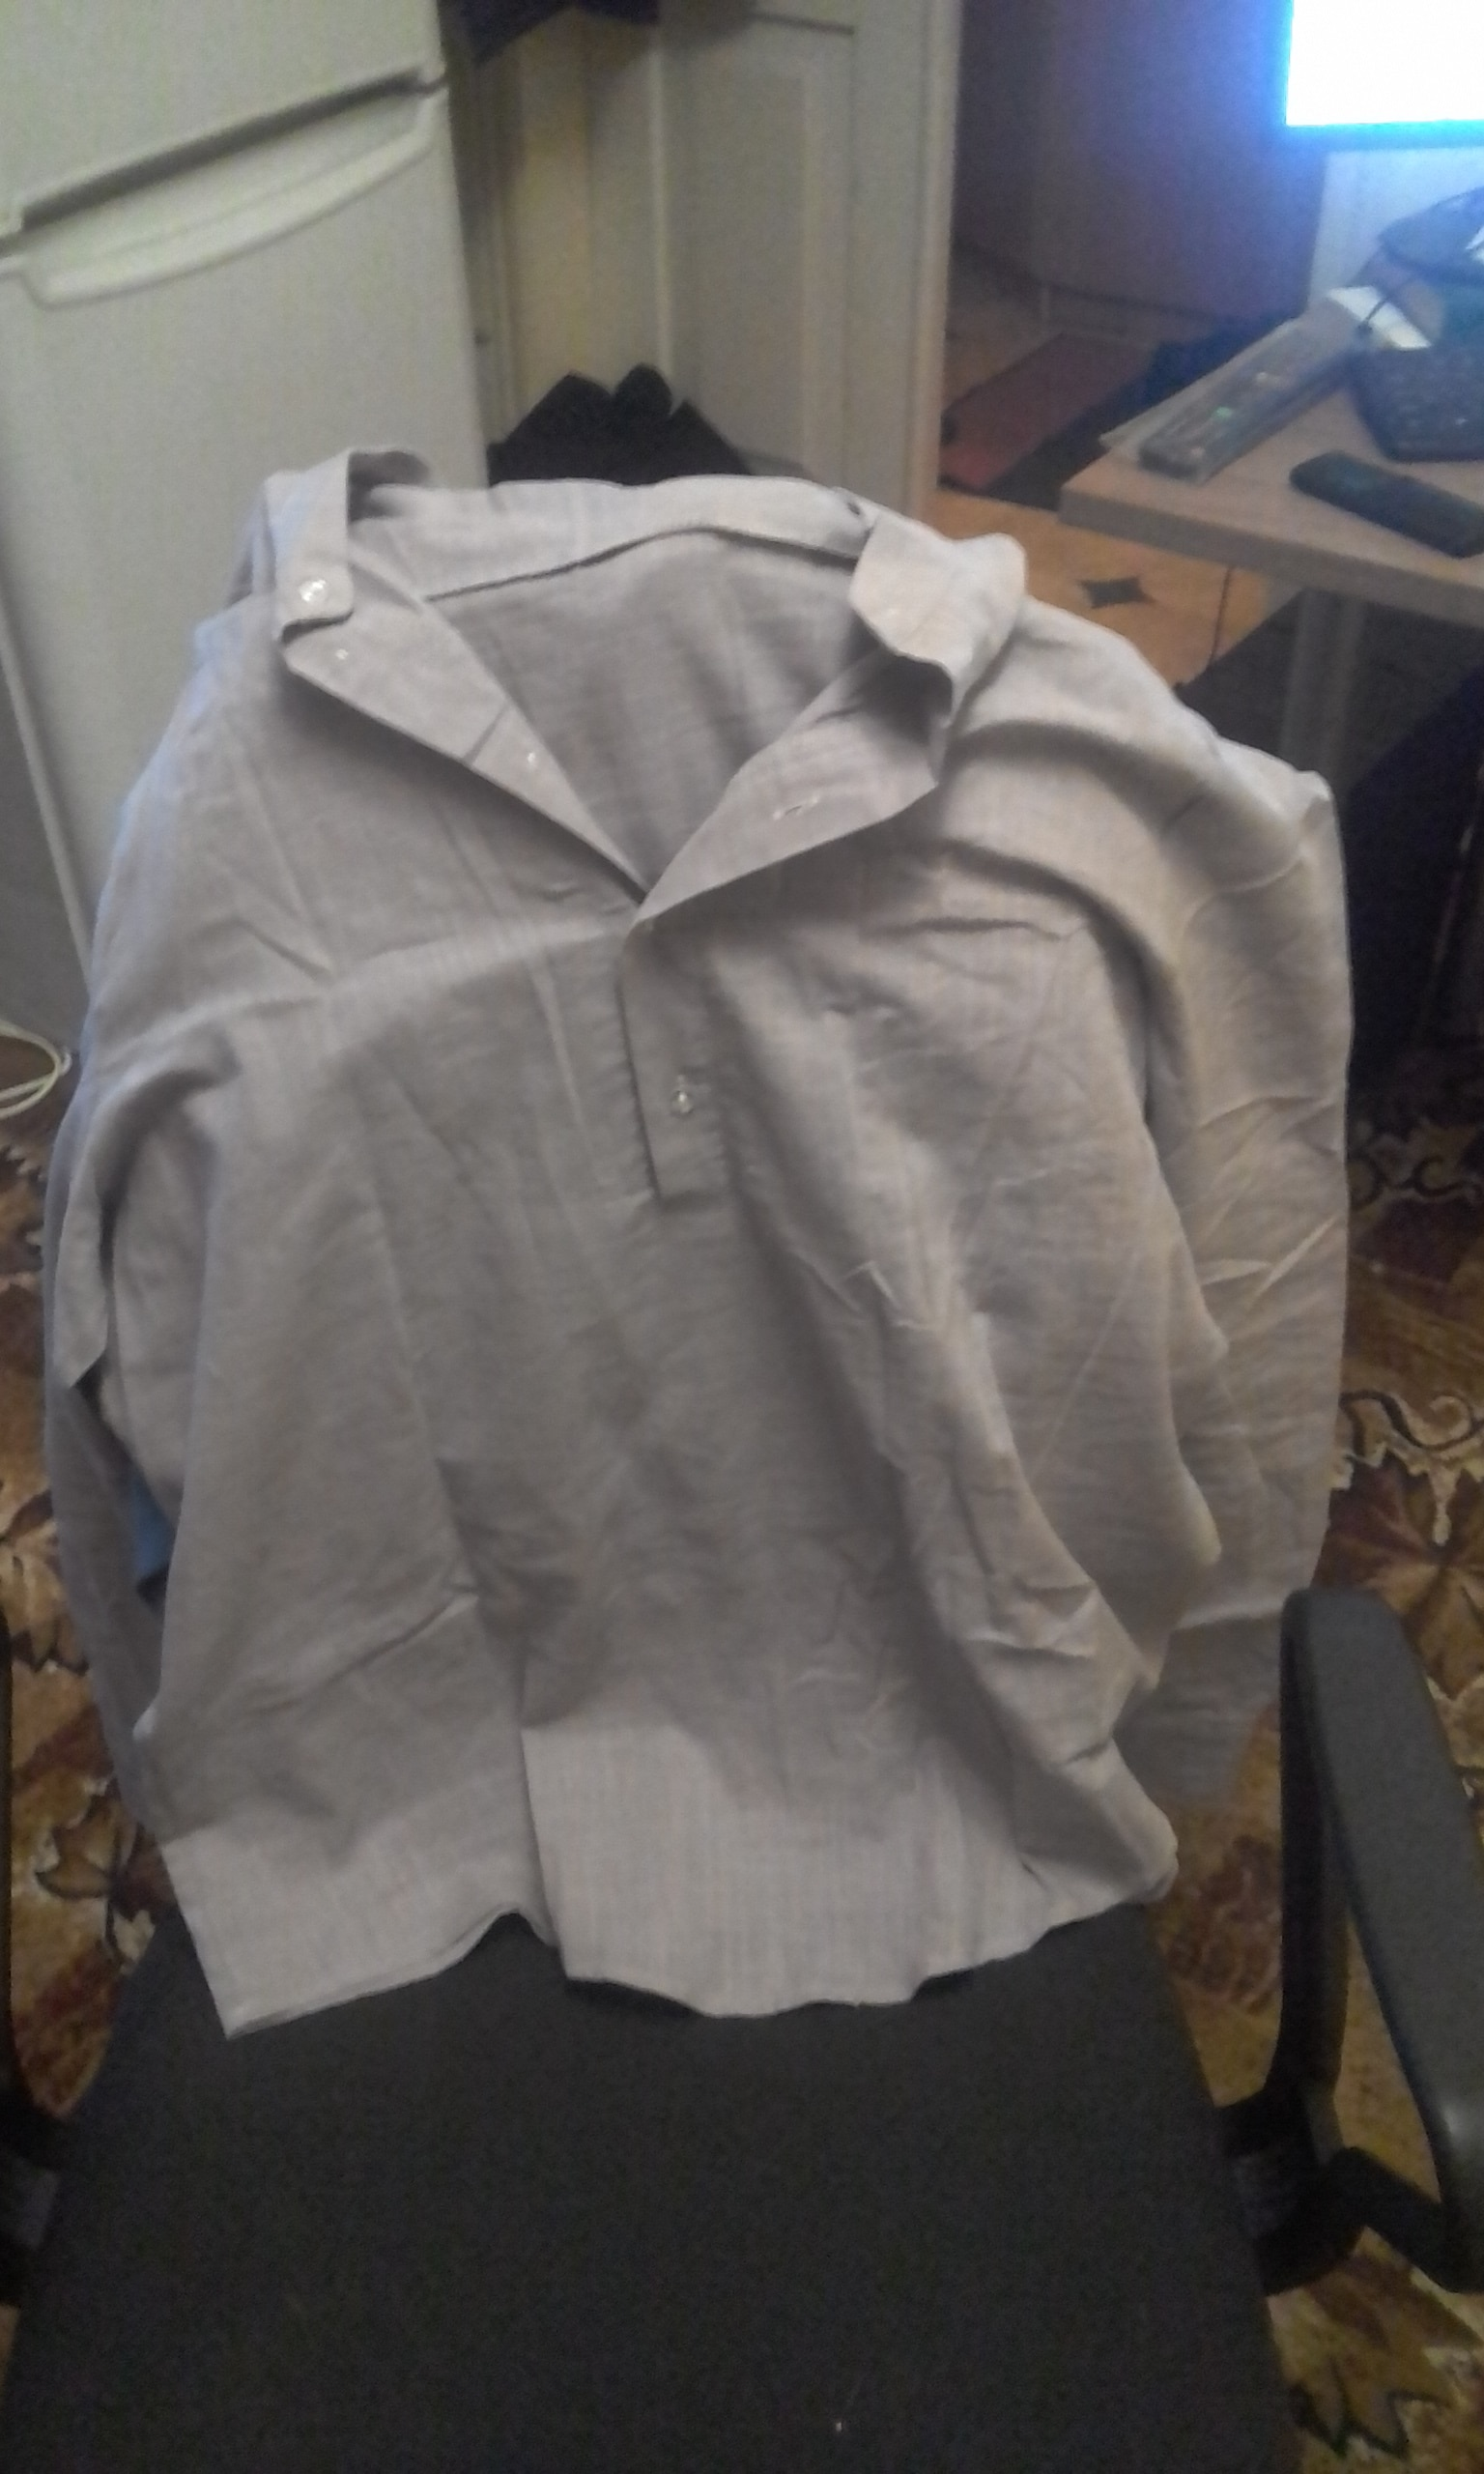shirts: (57, 440, 1348, 2016)
